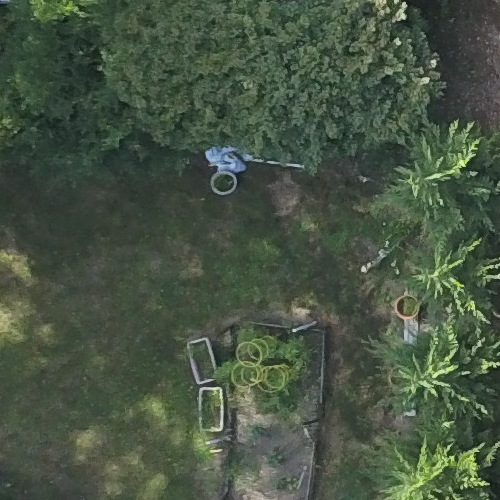flower pot: (203, 164, 241, 202), (388, 360, 420, 401), (392, 290, 419, 335)
